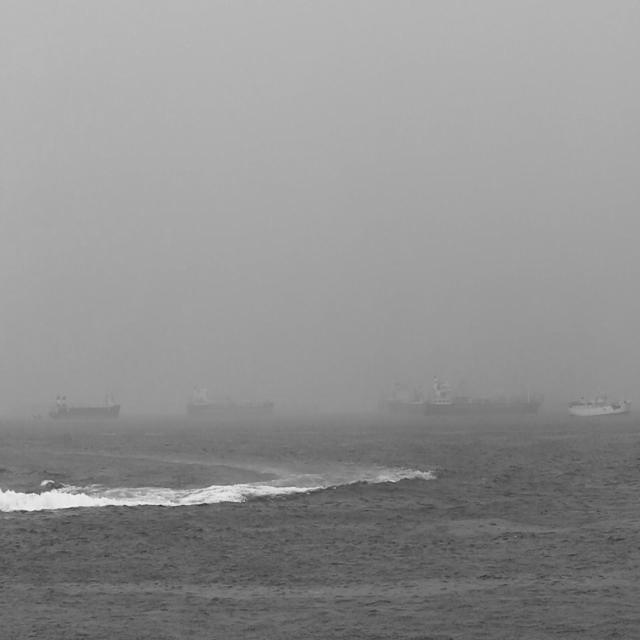ship: (428, 374, 542, 420), (186, 385, 277, 422), (52, 393, 122, 421), (569, 391, 634, 418), (379, 381, 410, 416), (411, 386, 427, 416), (31, 411, 45, 422)
